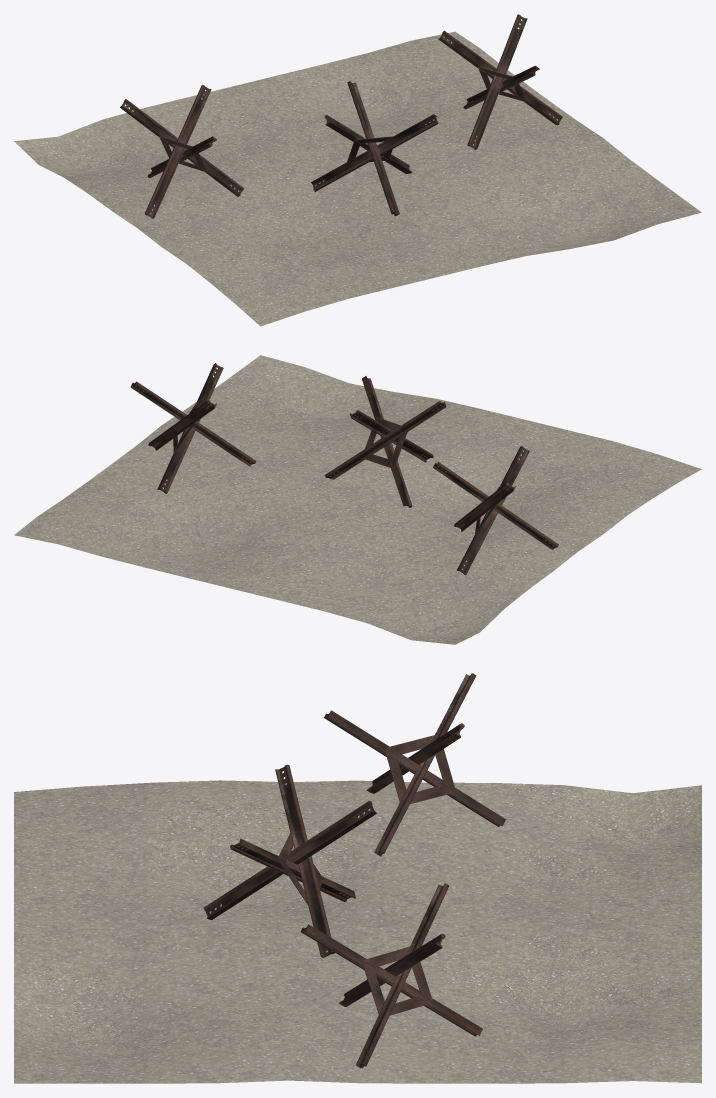
File: hedgehog.glb
3 views of the same model, one above another, from view 1: azimuth 30°, elevation 25°; view 2: azimuth 150°, elevation 25°; view 3: azimuth 270°, elevation 25° (orthographic). The views are drawn at different scales.
Parts seen in each view (by area): view 1: hedgehog2, hedgehog1_02_low_hedgehog1_0, hedgehog1_03_low_hedgehog1_0, hedgehog1_04_low_hedgehog1_0, hedgehog1_01_low_hedgehog1_0; view 2: hedgehog2, hedgehog1_04_low_hedgehog1_0, hedgehog1_03_low_hedgehog1_0, hedgehog1_02_low_hedgehog1_0, hedgehog1_01_low_hedgehog1_0; view 3: hedgehog2, hedgehog1_02_low_hedgehog1_0, hedgehog1_03_low_hedgehog1_0, hedgehog1_04_low_hedgehog1_0, hedgehog1_01_low_hedgehog1_0.
Part boxes in pixels (x1=…): hedgehog2: x1=14, y1=31, x2=701, y2=326; hedgehog1_02_low_hedgehog1_0: x1=120, y1=14, x2=527, y2=216; hedgehog1_03_low_hedgehog1_0: x1=144, y1=30, x2=562, y2=218; hedgehog1_04_low_hedgehog1_0: x1=147, y1=65, x2=539, y2=191; hedgehog1_01_low_hedgehog1_0: x1=159, y1=66, x2=526, y2=172; hedgehog2: x1=14, y1=355, x2=701, y2=644; hedgehog1_04_low_hedgehog1_0: x1=157, y1=363, x2=529, y2=574; hedgehog1_03_low_hedgehog1_0: x1=148, y1=400, x2=558, y2=549; hedgehog1_02_low_hedgehog1_0: x1=130, y1=381, x2=515, y2=531; hedgehog1_01_low_hedgehog1_0: x1=173, y1=403, x2=500, y2=534; hedgehog2: x1=14, y1=780, x2=701, y2=1083; hedgehog1_02_low_hedgehog1_0: x1=203, y1=673, x2=476, y2=1006; hedgehog1_03_low_hedgehog1_0: x1=275, y1=723, x2=464, y2=1068; hedgehog1_04_low_hedgehog1_0: x1=230, y1=710, x2=505, y2=1036; hedgehog1_01_low_hedgehog1_0: x1=277, y1=735, x2=455, y2=1015.
Size of the model in its own units: 914 by 226 by 885.
Materials: 2 (2 with a texture image).
